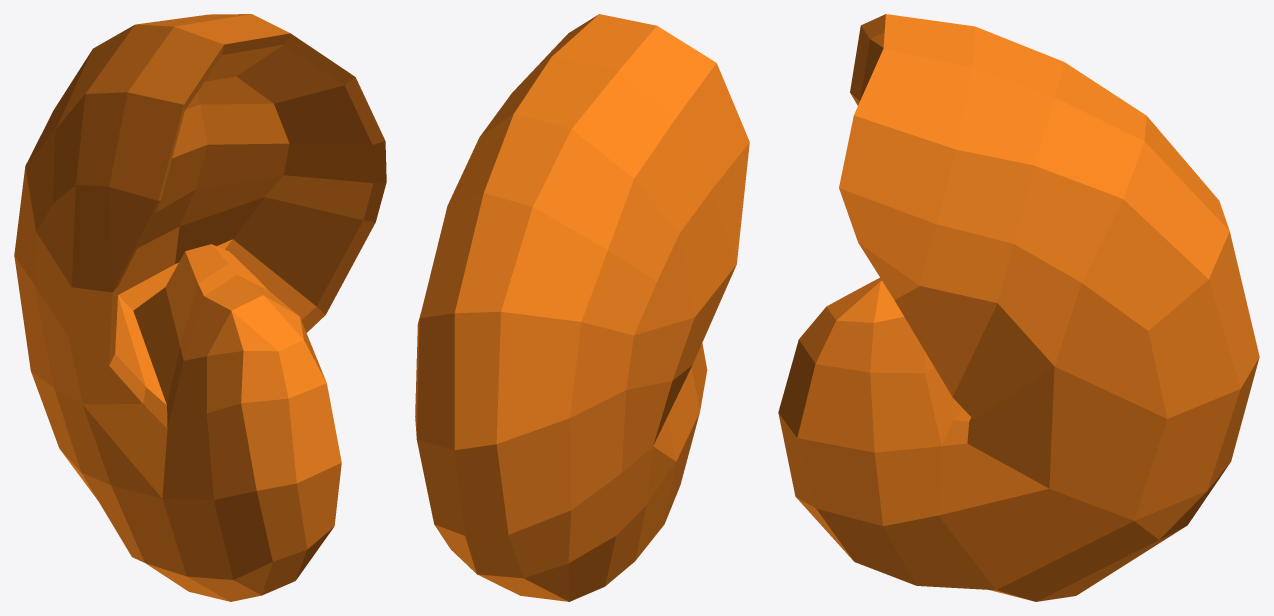
The model's file is Coral_01.fbx.
3 renders of one model, left to right at view 1: azimuth 30°, elevation 25°; view 2: azimuth 150°, elevation 25°; view 3: azimuth 270°, elevation 25°, orthographic. The views are drawn at different scales.
Visible parts, largest first — view 1: Coral_01; view 2: Coral_01; view 3: Coral_01.
Boxes of the visible parts, bbox=[...] form: Coral_01: bbox=[14, 14, 386, 601]; Coral_01: bbox=[415, 14, 749, 601]; Coral_01: bbox=[778, 14, 1259, 601].
Size of the model in its own units: 25.25 by 55.13 by 42.19.
